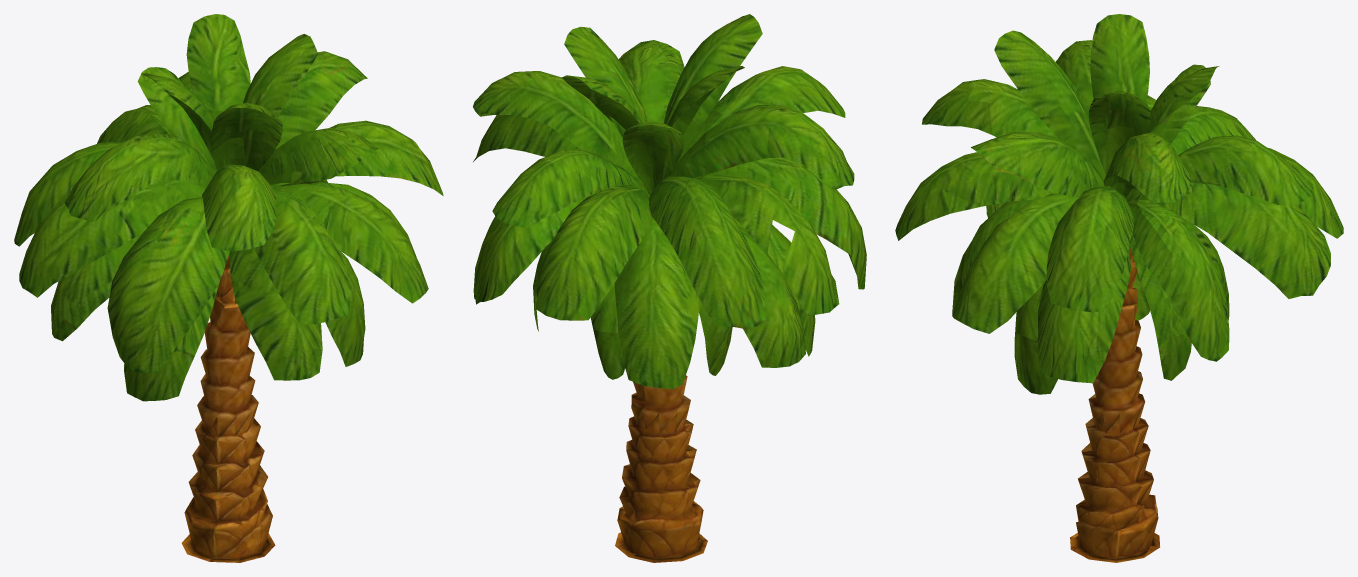
Rendered from tree-conifer.glb.
3 renders of one model, left to right at view 1: azimuth 30°, elevation 25°; view 2: azimuth 150°, elevation 25°; view 3: azimuth 270°, elevation 25°, orthographic.
Bounding box in the file's own units: 0.8184 × 1 × 0.8281.
1 material, 1 textured.
